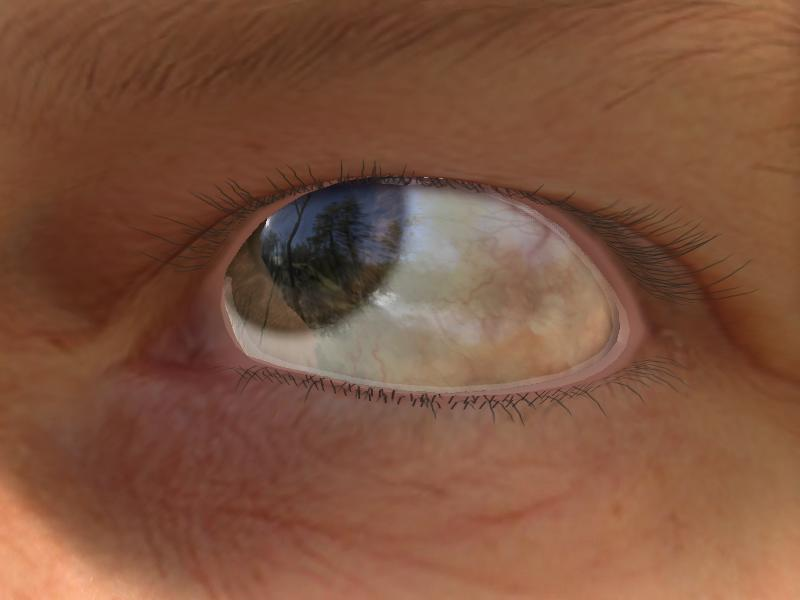eye: (230, 182, 407, 333)
